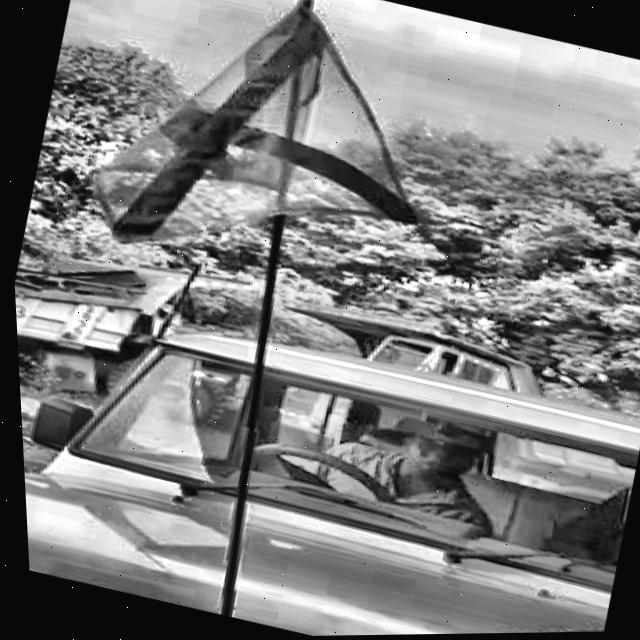light_vehicle: (11, 262, 640, 640)
